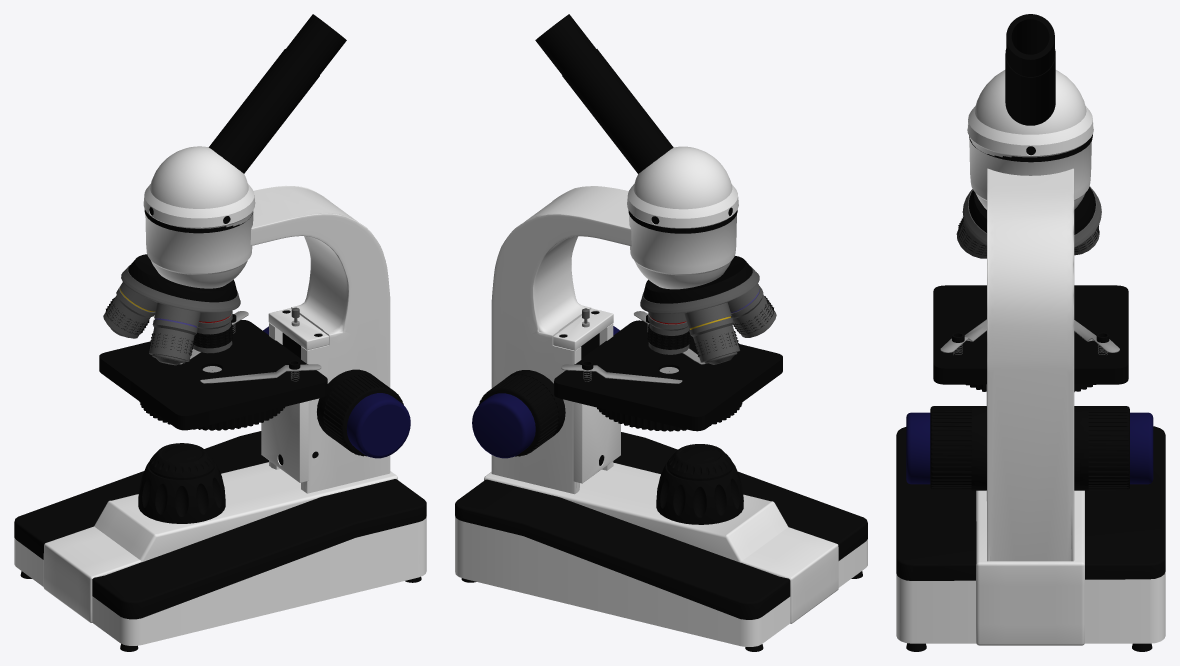
Rendered from microscope.FBX.
The picture shows the model from 3 angles, left to right: view 1: azimuth 30°, elevation 25°; view 2: azimuth 150°, elevation 25°; view 3: azimuth 270°, elevation 25°; orthographic projection. The views are drawn at different scales.
Visible parts, largest first — view 1: Tube007, Box001, Tube013, ChamferCyl009, Cylinder002; view 2: Tube007, Box001, Tube013, ChamferCyl009, Cylinder002; view 3: Box001, Tube007, ChamferCyl009, Tube013, Cylinder002.
Boxes of the visible parts, <box> form: Tube007: <box>14,14,426,651</box>; Box001: <box>43,146,397,622</box>; Tube013: <box>103,254,240,365</box>; ChamferCyl009: <box>263,326,410,458</box>; Cylinder002: <box>179,307,321,383</box>; Tube007: <box>455,14,867,651</box>; Box001: <box>484,146,838,623</box>; Tube013: <box>640,256,776,364</box>; ChamferCyl009: <box>472,326,619,458</box>; Cylinder002: <box>561,308,705,383</box>; Box001: <box>967,70,1093,645</box>; Tube007: <box>896,14,1165,651</box>; ChamferCyl009: <box>906,412,1153,484</box>; Tube013: <box>956,186,1101,258</box>; Cylinder002: <box>940,319,1119,354</box>.
Bounding box in the file's own units: 82.08 × 136 × 54.75.
